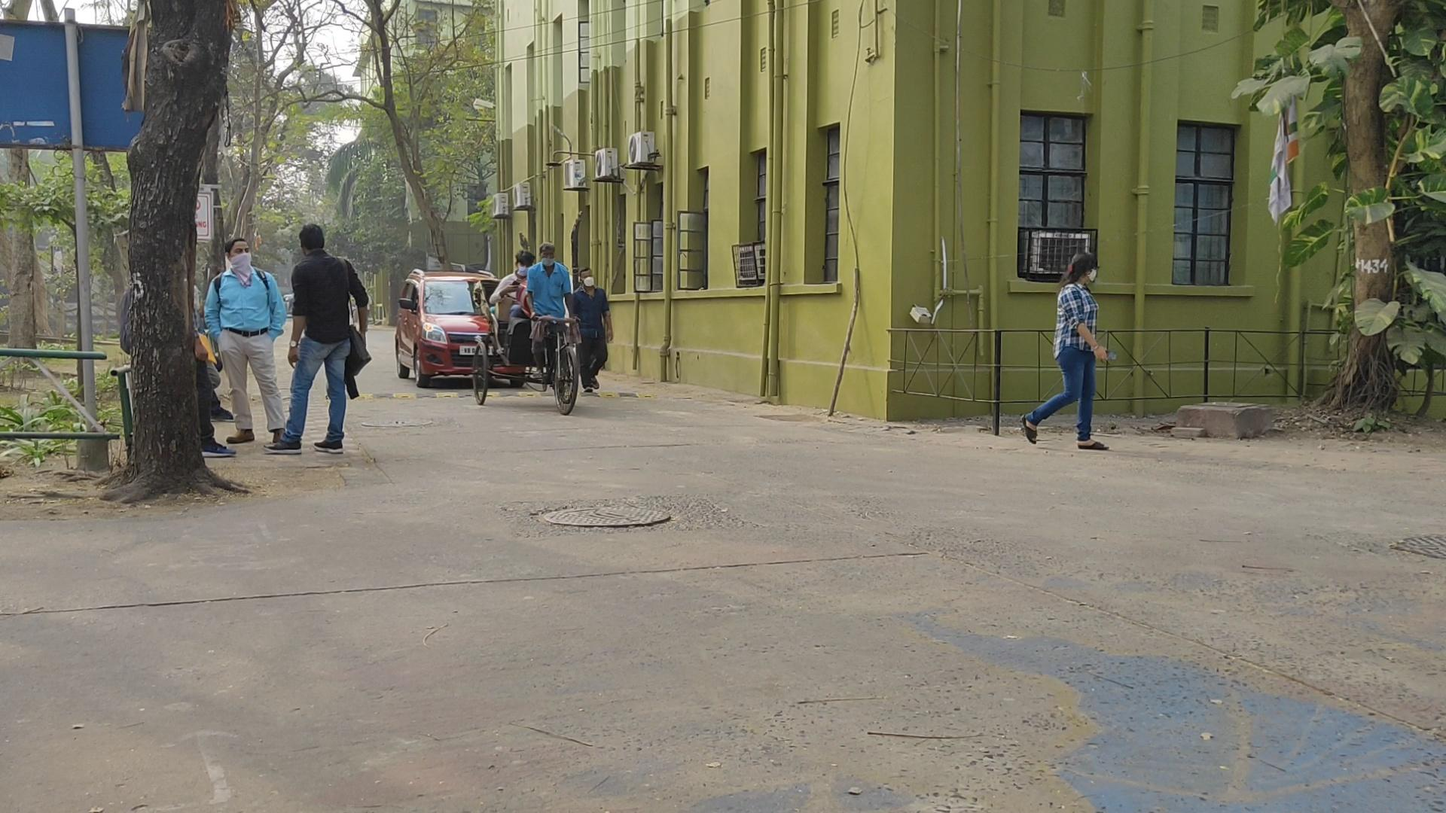car: (395, 269, 504, 385)
